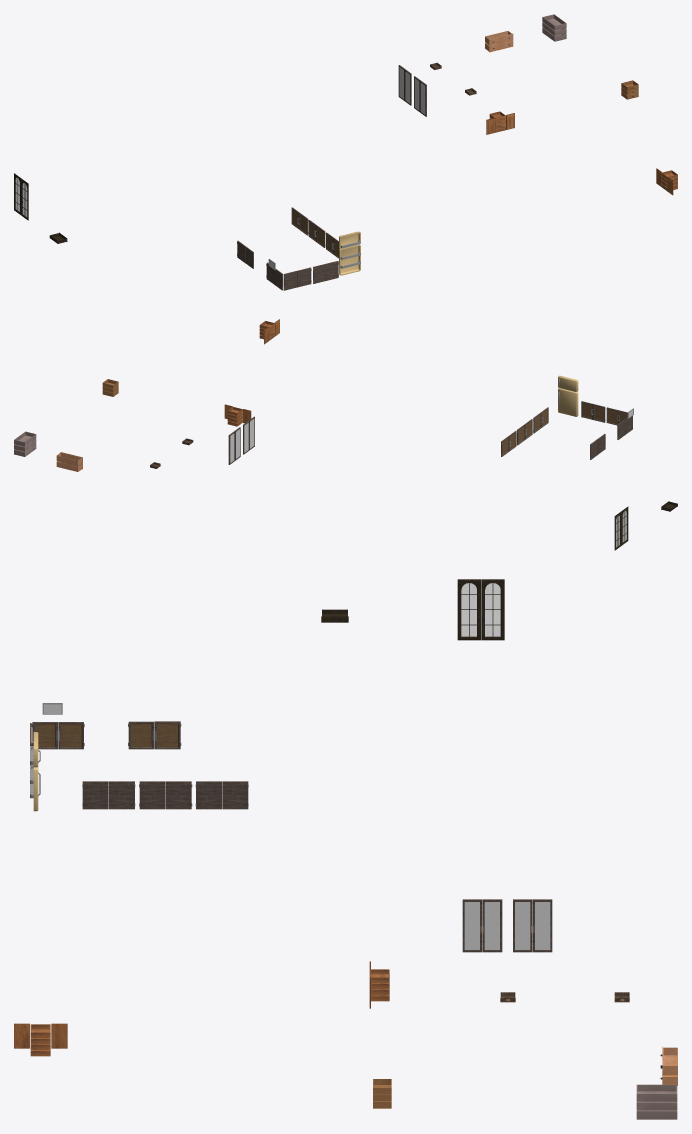
The model's file is cabinets-and-drawers.glb.
3 views of the same model, one above another, from view 1: azimuth 30°, elevation 25°; view 2: azimuth 150°, elevation 25°; view 3: azimuth 270°, elevation 25° (orthographic). The views are drawn at different scales.
Parts seen in each view (by area): view 1: Cube.054-col; view 2: Cube.054-col; view 3: display_cabinet_mp_2_4_door_2.001, display_cabinet_mp_2_4_door_1.001, Cube.193-col, Cube.194-col, Cube.016-col, Cube.015-col, Cube.011-col.
Part boxes in pixels (box(x1,y1,x2,y2)): Cube.054-col: box(339, 244, 360, 275); Cube.054-col: box(558, 388, 578, 416); display_cabinet_mp_2_4_door_2.001: box(481, 579, 504, 640); display_cabinet_mp_2_4_door_1.001: box(457, 579, 480, 640); Cube.193-col: box(462, 899, 482, 952); Cube.194-col: box(482, 899, 502, 952); Cube.016-col: box(513, 899, 532, 952); Cube.015-col: box(533, 899, 552, 952); Cube.011-col: box(154, 721, 181, 749).
Size of the model in its own units: 31.72 by 2.15 by 18.36.
Materials: 29 (26 with a texture image).
